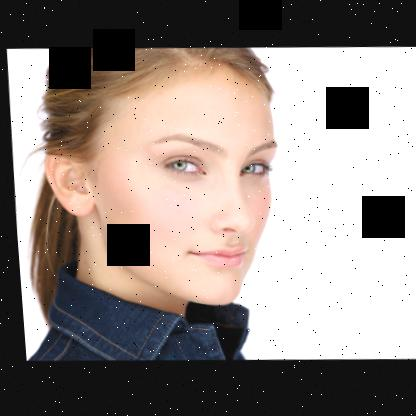Female: (33, 57, 284, 309)
